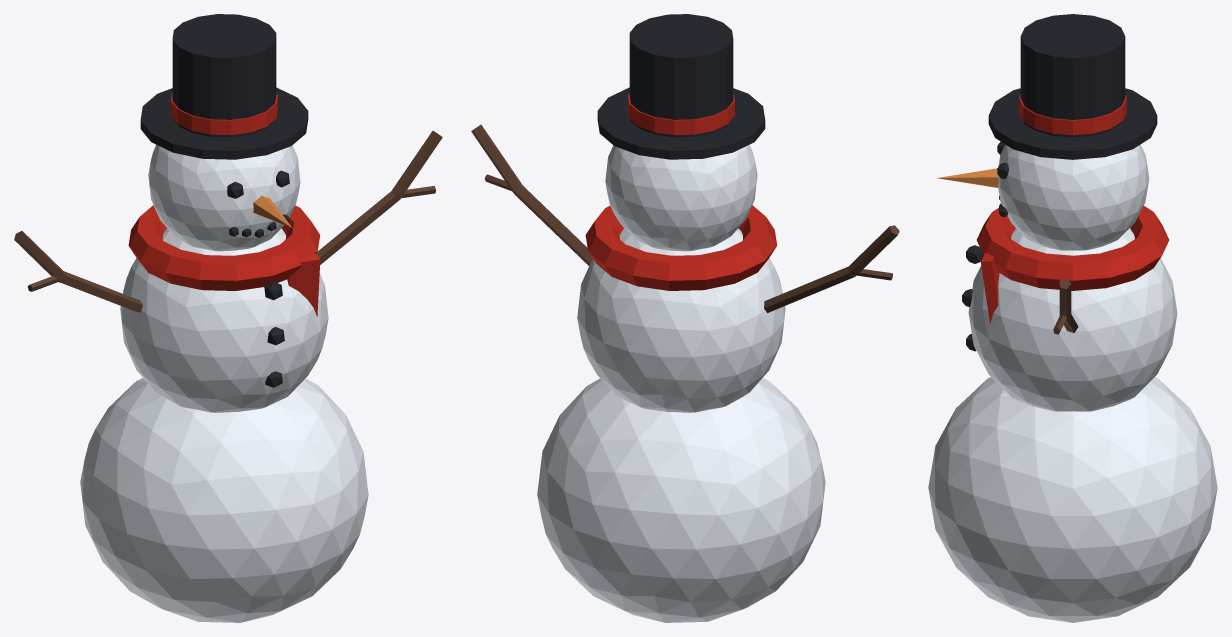
Rendered from snowman.glb.
3 renders of one model, left to right at view 1: azimuth 30°, elevation 25°; view 2: azimuth 150°, elevation 25°; view 3: azimuth 270°, elevation 25°, orthographic.
Parts seen in each view (by area): view 1: snowman; view 2: snowman; view 3: snowman.
Part boxes in pixels (<box>): snowman: <box>14,14,442,622</box>; snowman: <box>471,14,899,622</box>; snowman: <box>928,14,1217,622</box>.
Size of the model in its own units: 6.12 by 7.86 by 3.6.
1 material, 1 textured.
